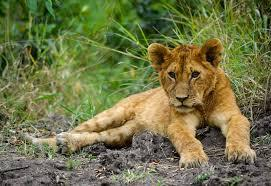Non_Gorille: (34, 15, 261, 175)
